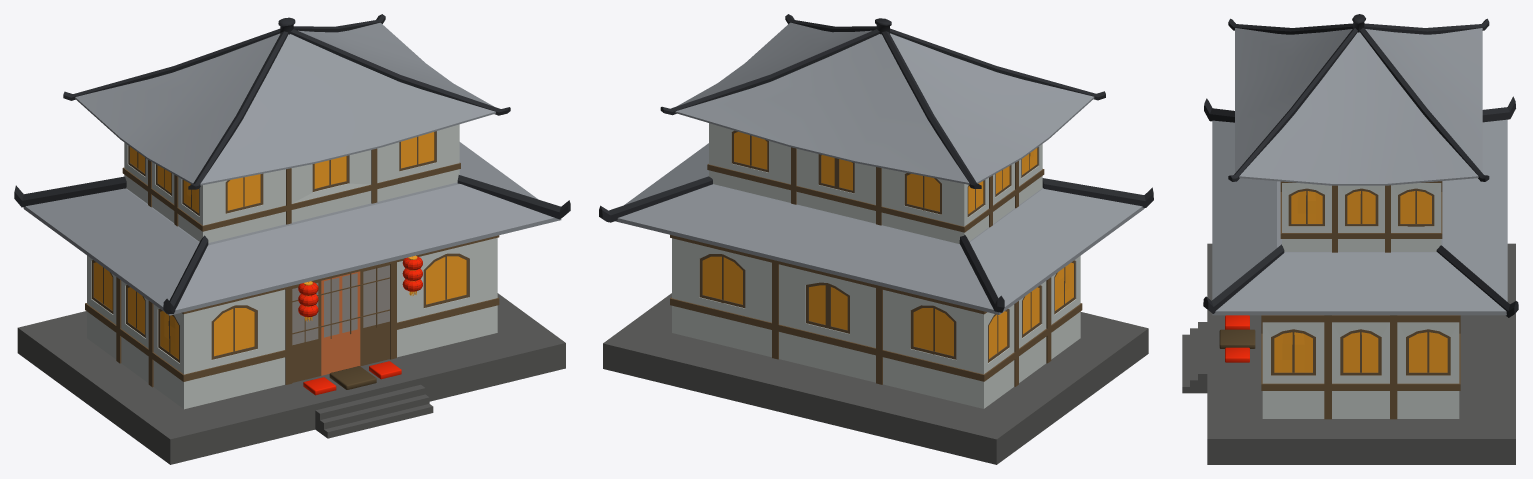
The model's file is Apartment_3.fbx.
3 views of the same model, side by side, from view 1: azimuth 30°, elevation 25°; view 2: azimuth 150°, elevation 25°; view 3: azimuth 270°, elevation 25° (orthographic).
Visible parts, largest first — view 1: Apartment_3; view 2: Apartment_3; view 3: Apartment_3.
Boxes of the visible parts, x1=… form: Apartment_3: x1=14, y1=14, x2=570, y2=464; Apartment_3: x1=599, y1=14, x2=1153, y2=464; Apartment_3: x1=1182, y1=14, x2=1518, y2=464.
Bounding box in the file's own units: 504 × 406 × 357.
